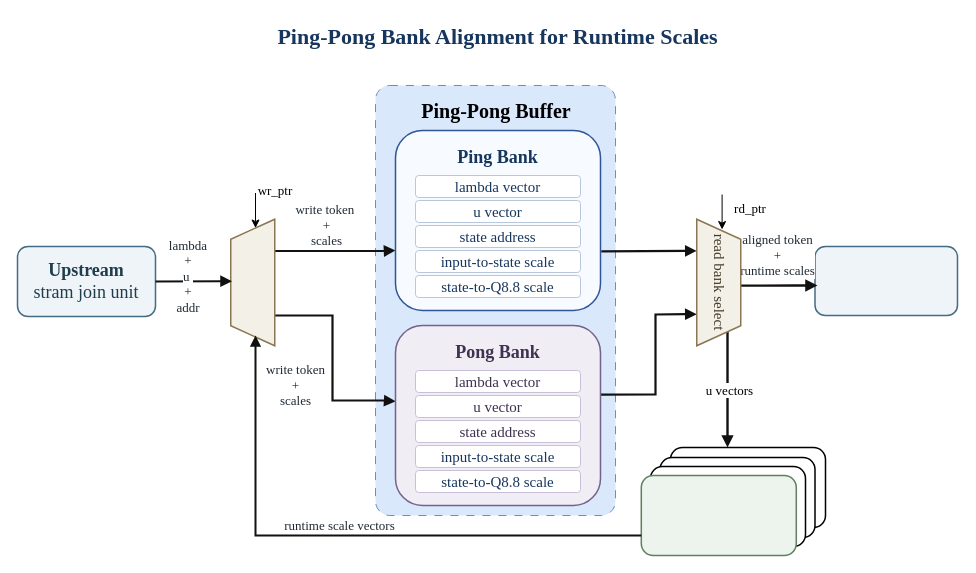
The diagram is 976 pixels wide and 573 high, and some of its shapes have lost their labels. Here are the shapes that lost their labels. From the top down, the box of each, then its label:
(230, 218, 275, 346): write bank select
(814, 245, 958, 316): Downstream state update unit
(640, 474, 797, 556): Scale Generator dynamic scale x4
